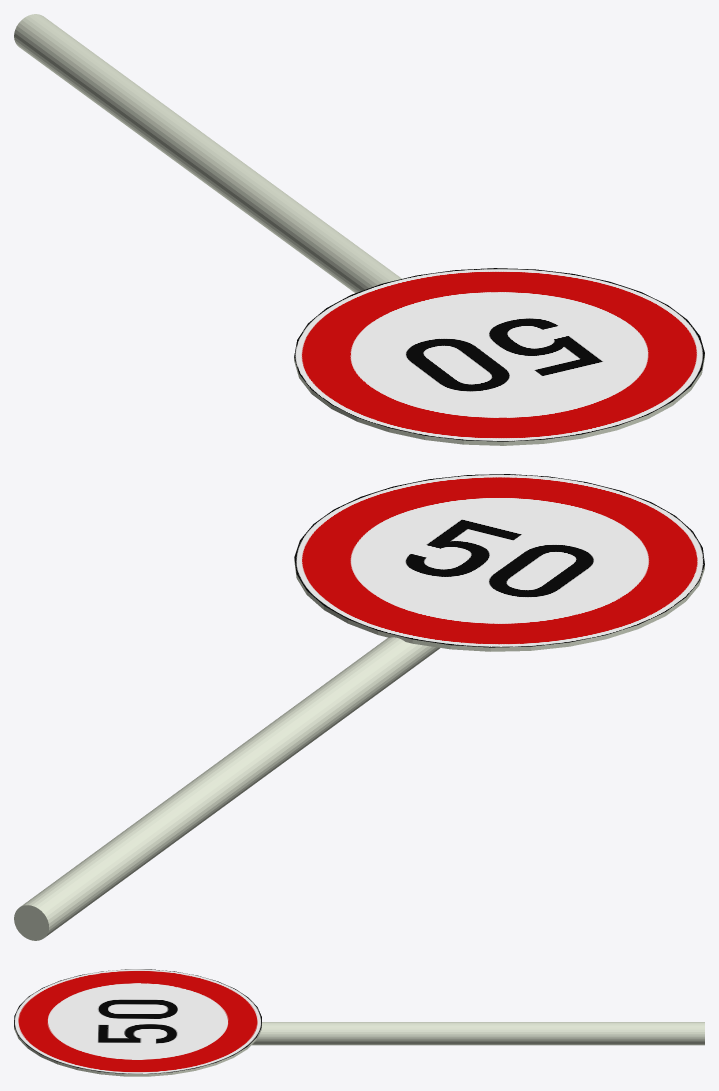
The picture shows the model from 3 angles, top to bottom: view 1: azimuth 30°, elevation 25°; view 2: azimuth 150°, elevation 25°; view 3: azimuth 270°, elevation 25°; orthographic projection. The views are drawn at different scales.
Visible parts, largest first — view 1: Circle.005, 50_tube; view 2: Circle.005, 50_tube; view 3: Circle.005, 50_tube.
Part boxes in pixels (x1=…): Circle.005: x1=294, y1=268, x2=704, y2=445; 50_tube: x1=14, y1=14, x2=401, y2=293; Circle.005: x1=294, y1=474, x2=704, y2=651; 50_tube: x1=14, y1=637, x2=439, y2=940; Circle.005: x1=14, y1=969, x2=261, y2=1076; 50_tube: x1=252, y1=1022, x2=704, y2=1045.
Bounding box in the file's own units: 0.0516 × 0.00514 × 0.1437.
Materials: 3 (1 with a texture image).
